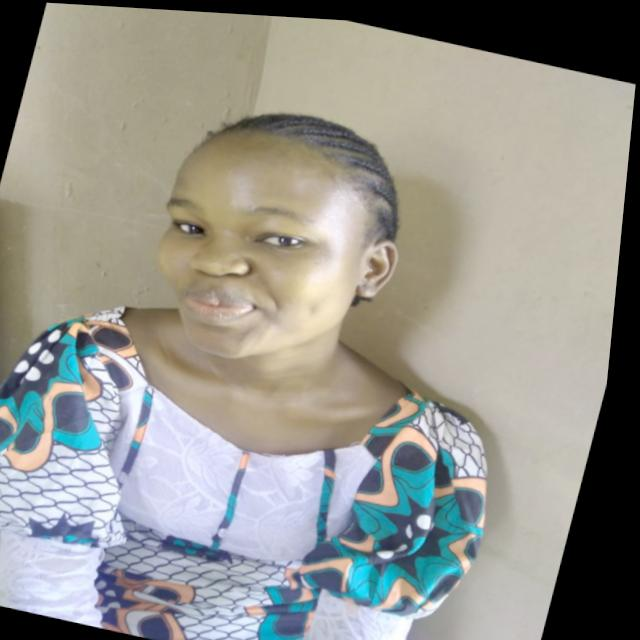happy: (121, 94, 439, 397)
